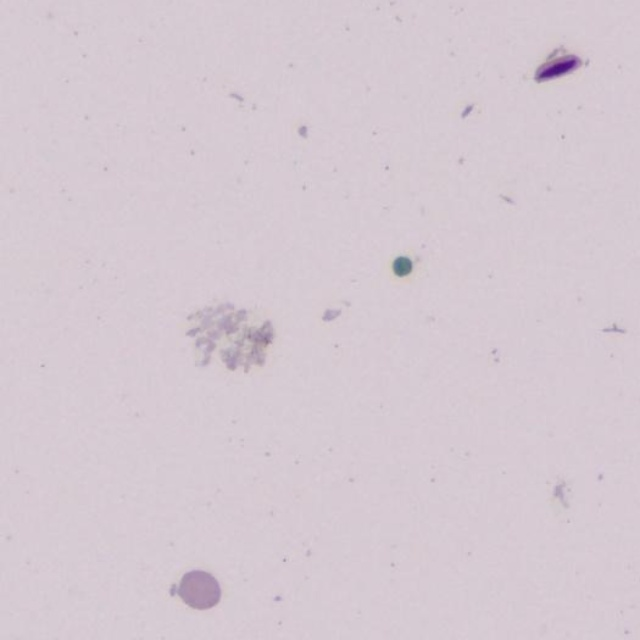intermediate: (176, 571, 219, 608)
non_viable: (393, 256, 412, 276)
